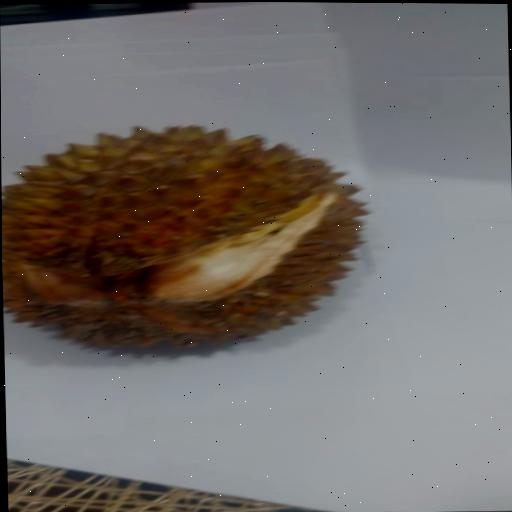rot: (1, 105, 401, 385)
